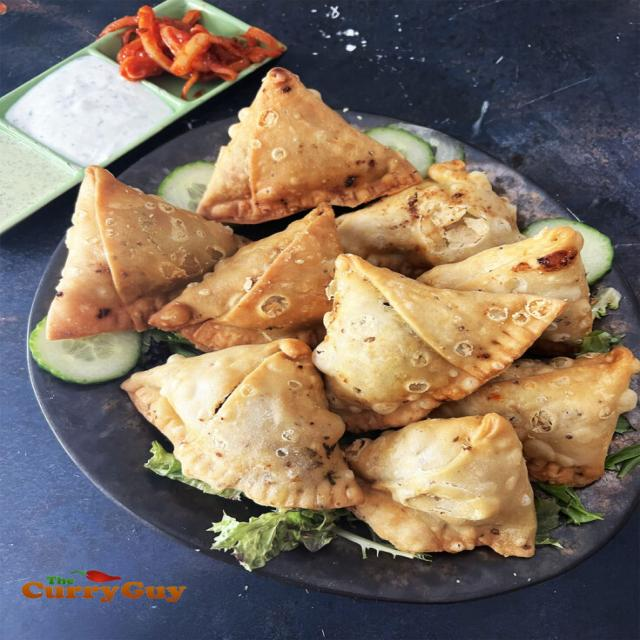SAMOSA: (315, 254, 559, 429), (117, 335, 357, 505), (38, 174, 241, 348), (216, 69, 423, 220), (352, 418, 528, 554), (170, 212, 332, 352), (477, 351, 638, 477), (433, 236, 593, 346), (342, 174, 508, 257)
